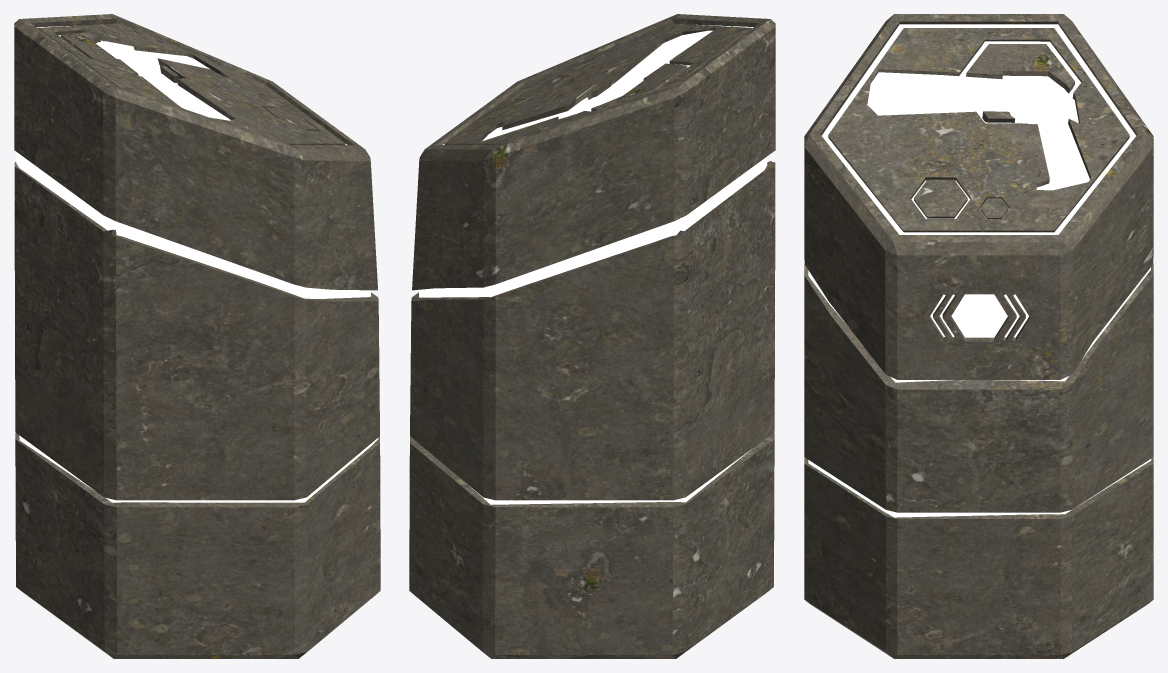
File: GunPlate.fbx
The picture shows the model from 3 angles, left to right: view 1: azimuth 30°, elevation 25°; view 2: azimuth 150°, elevation 25°; view 3: azimuth 270°, elevation 25°; orthographic projection. The views are drawn at different scales.
Visible parts, largest first — view 1: 円柱, 円柱.005; view 2: 円柱, 円柱.005; view 3: 円柱, 円柱.005.
Boxes of the visible parts, box(x1,y1,x2,y2) form: 円柱: box(14, 14, 380, 658); 円柱.005: box(16, 25, 378, 502); 円柱: box(409, 14, 775, 658); 円柱.005: box(419, 24, 767, 504); 円柱: box(804, 14, 1153, 658); 円柱.005: box(808, 24, 1151, 517).
Size of the model in its own units: 116 by 229 by 138.
